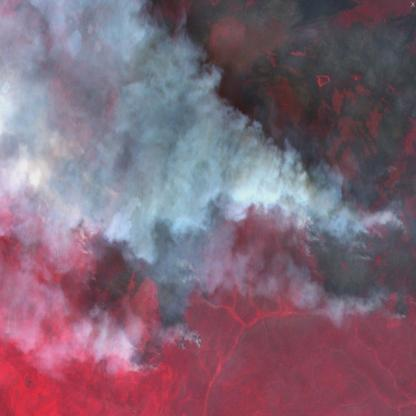fire: (344, 202, 416, 270), (117, 330, 168, 381), (152, 314, 208, 358), (362, 288, 410, 329), (295, 208, 331, 262)
